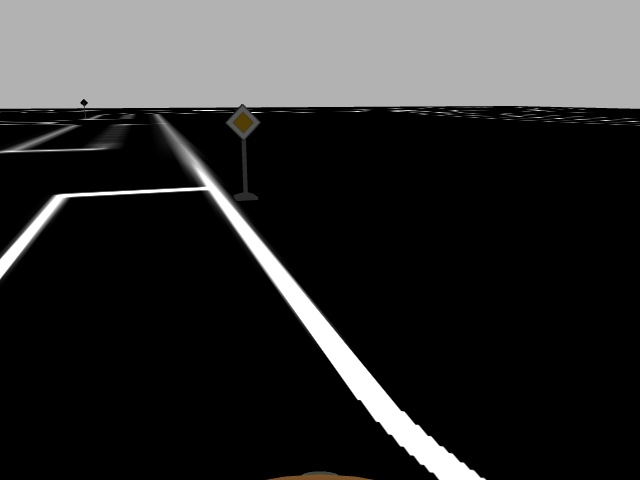priority: (223, 103, 261, 140)
